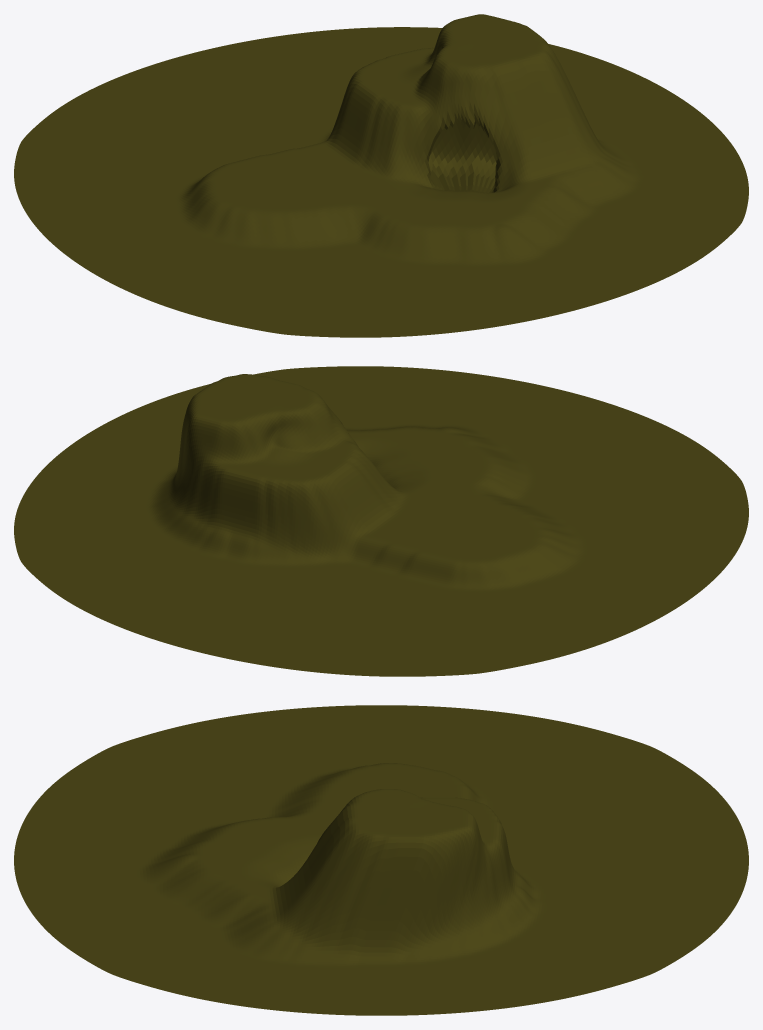
File: island.fbx
3 views of the same model, one above another, from view 1: azimuth 30°, elevation 25°; view 2: azimuth 150°, elevation 25°; view 3: azimuth 270°, elevation 25° (orthographic). The views are drawn at different scales.
Parts seen in each view (by area): view 1: Cube.001; view 2: Cube.001; view 3: Cube.001.
Boxes of the visible parts, left/top/right/bottom form: Cube.001: left=14, top=14, right=748, bottom=337; Cube.001: left=14, top=366, right=748, bottom=676; Cube.001: left=14, top=705, right=748, bottom=1015.
Size of the model in its own units: 1824 by 349 by 1824.
